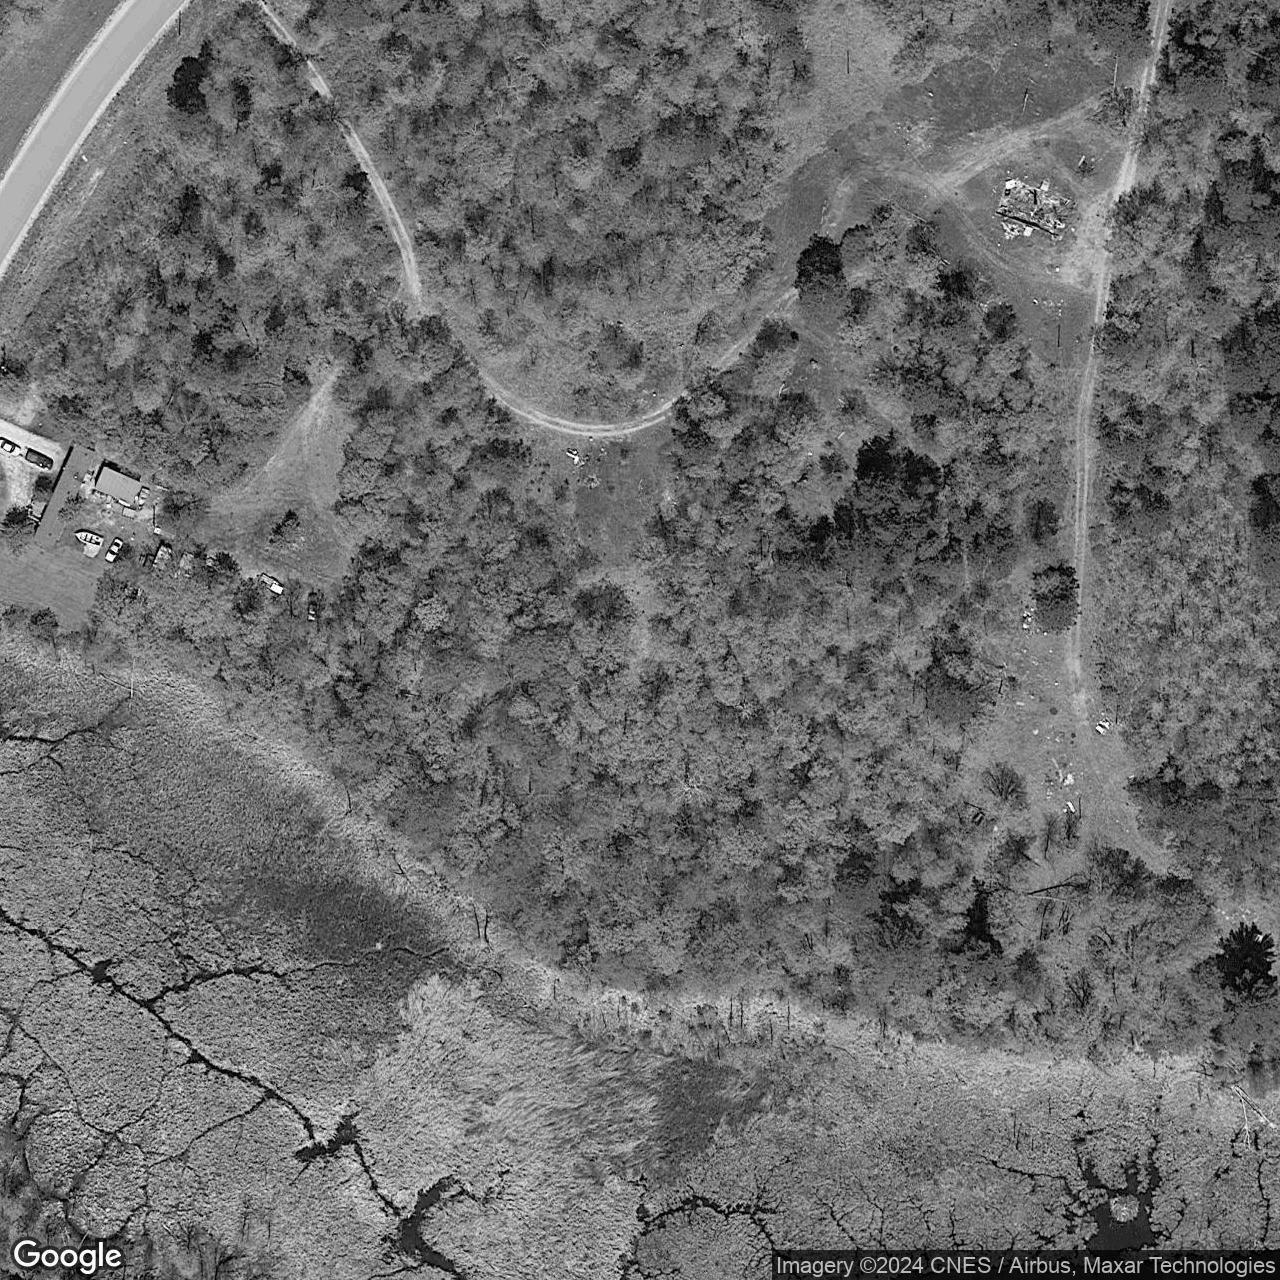Garage: (91, 465, 144, 508)
Trailer: (33, 442, 98, 550)
